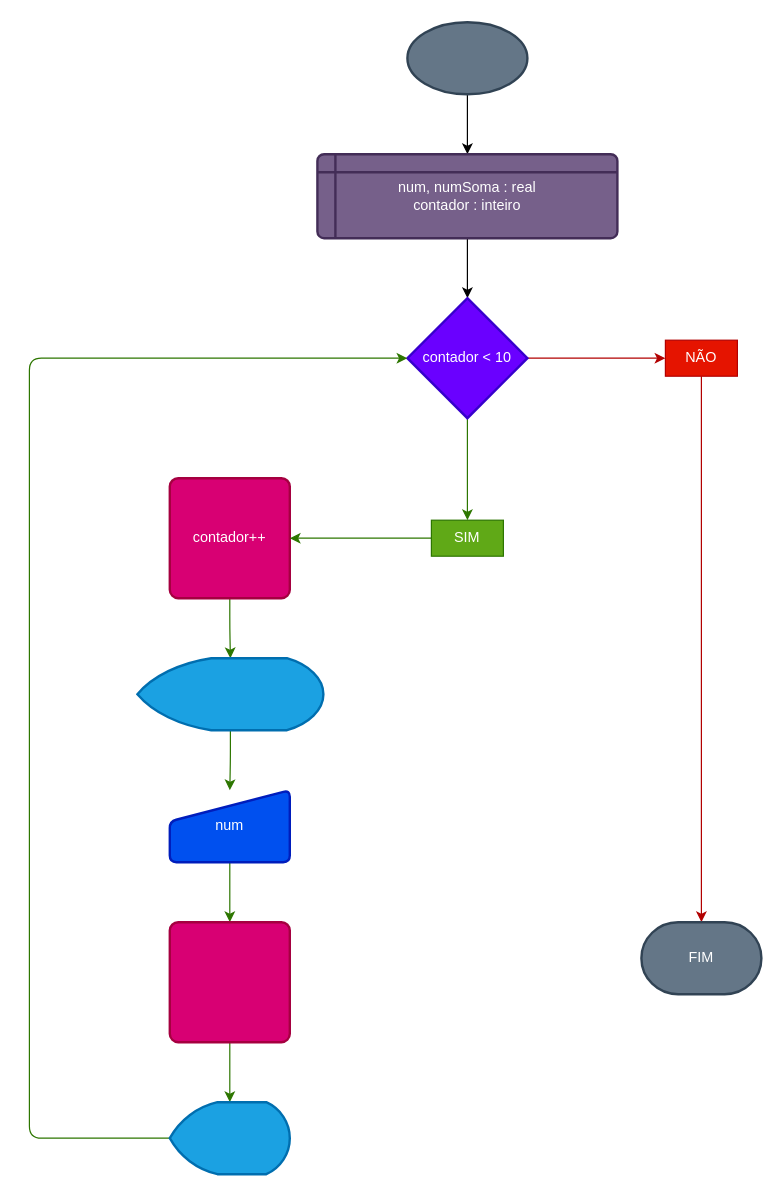
Some shapes in this 784 by 1195 pixel diagram are drawn without their labels. The box of each missing label's shape, as (x1, y1, x2, y2) in pixels:
"Digite o, ", contador, " numero inteiro: ": (136, 656, 324, 731)
"Soma: ", numSoma: (168, 1100, 290, 1175)
INICIO: (406, 20, 528, 95)
numSoma <- numSoma + num: (168, 920, 290, 1043)
